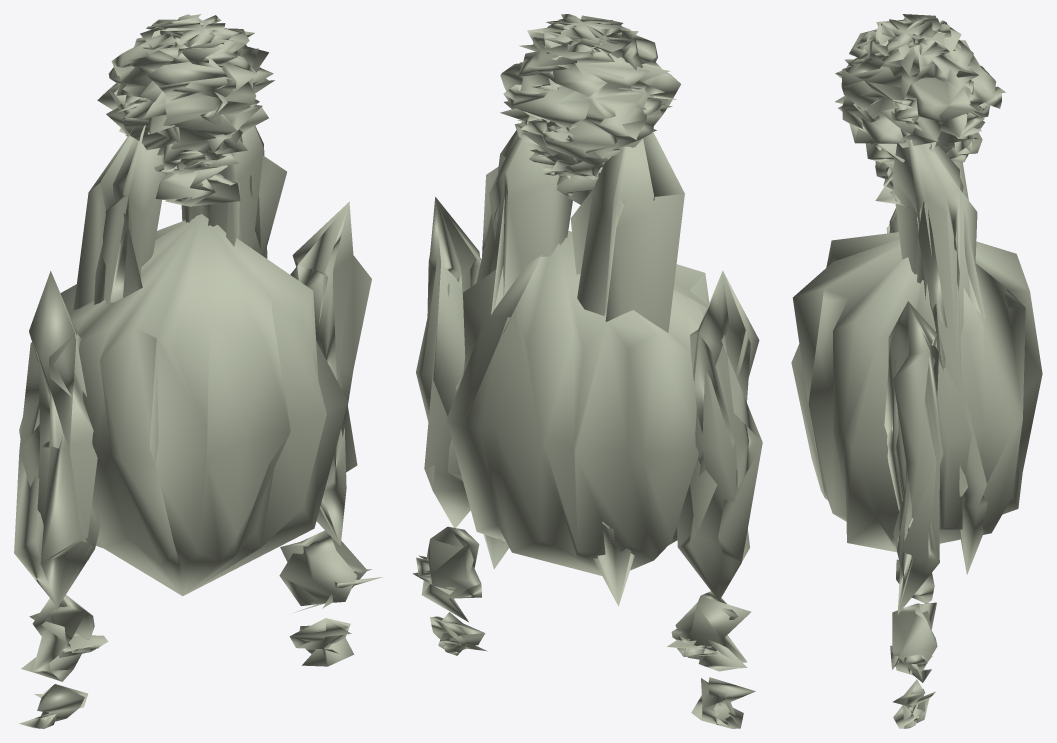
File: zombie_crawler.glb
3 views of the same model, side by side, from view 1: azimuth 30°, elevation 25°; view 2: azimuth 150°, elevation 25°; view 3: azimuth 270°, elevation 25° (orthographic). The views are drawn at different scales.
Visible parts, largest first — view 1: zombie_crawler; view 2: zombie_crawler; view 3: zombie_crawler.
Part boxes in pixels (bbox=[...]): zombie_crawler: bbox=[14, 14, 382, 728]; zombie_crawler: bbox=[412, 14, 762, 728]; zombie_crawler: bbox=[791, 14, 1042, 728].
Size of the model in its own units: 0.2101 by 0.3755 by 0.1347.
